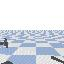drone: (0, 37, 8, 48)
